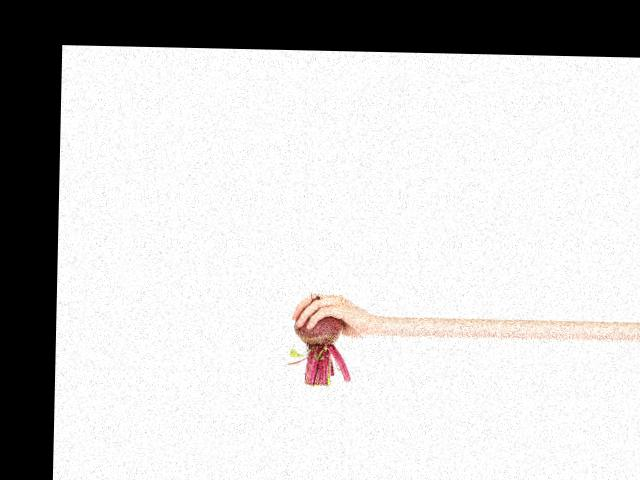beet: (286, 294, 352, 386)
